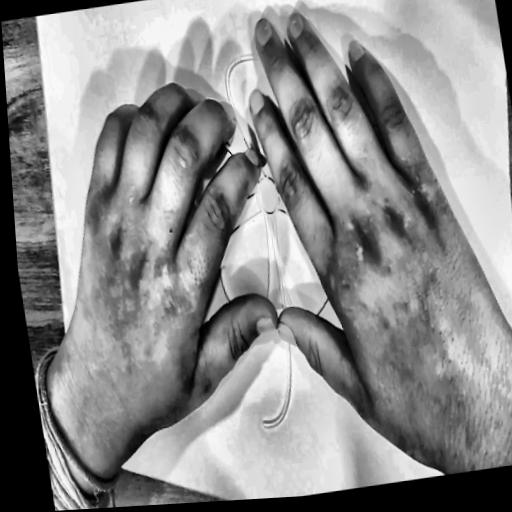bottom_right: (67, 438, 79, 455)
flower: (171, 25, 384, 470)
